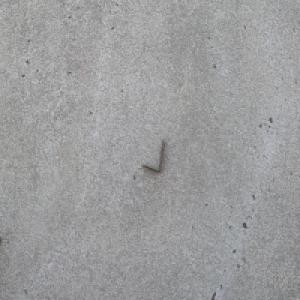MetalPart: (142, 137, 164, 173)
